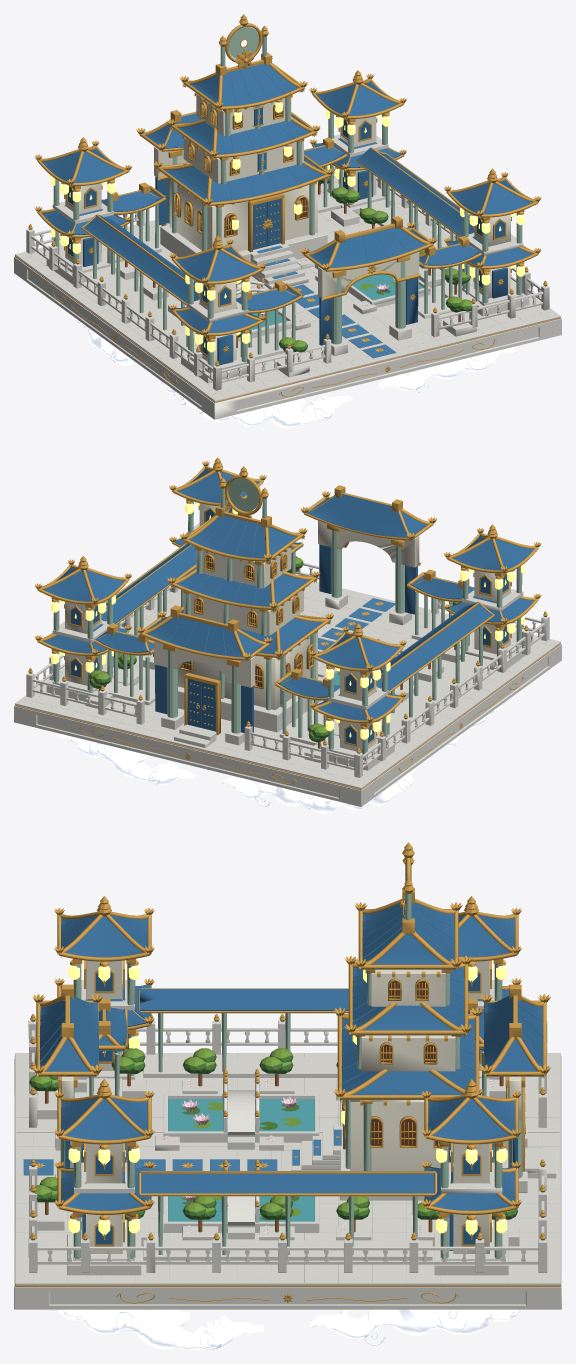
The model's file is city-6-lod0-e28fa2d94aa7.glb.
3 renders of one model, top to bottom at view 1: azimuth 30°, elevation 25°; view 2: azimuth 150°, elevation 25°; view 3: azimuth 270°, elevation 25°, orthographic. The views are drawn at different scales.
Parts seen in each view (by area): view 1: SM_CT6_V4_Batch_0.004, SM_CT6_V4_Batch_34.004, SM_CT6_V4_Batch_152.004, SM_CT6_V4_Batch_29.004, SM_CT6_V4_Batch_31.004, SM_CT6_V4_Batch_171.004, SM_CT6_V4_Batch_32.004, SM_CT6_V4_Batch_146.004, SM_CT6_V4_Batch_141.004, SM_CT6_V4_Batch_1.004, SM_CT6_V4_Batch_142.004, SM_CT6_V4_Batch_128.004 (+2 smaller); view 2: SM_CT6_V4_Batch_0.004, SM_CT6_V4_Batch_34.004, SM_CT6_V4_Batch_152.004, SM_CT6_V4_Batch_29.004, SM_CT6_V4_Batch_31.004, SM_CT6_V4_Batch_171.004, SM_CT6_V4_Batch_32.004, SM_CT6_V4_Batch_146.004, SM_CT6_V4_Batch_1.004, SM_CT6_V4_Batch_3.004, SM_CT6_V4_Batch_6.004, SM_CT6_V4_Batch_141.004; view 3: SM_CT6_V4_Batch_0.004, SM_CT6_V4_Batch_34.004, SM_CT6_V4_Batch_152.004, SM_CT6_V4_Batch_31.004, SM_CT6_V4_Batch_171.004, SM_CT6_V4_Batch_29.004, SM_CT6_V4_Batch_128.004, SM_CT6_V4_Batch_141.004, SM_CT6_V4_Batch_146.004, SM_CT6_V4_Batch_32.004, SM_CT6_V4_Batch_142.004, SM_CT6_V4_Batch_3.004 (+2 smaller).
Part boxes in pixels (x1,y1,x2,y2): SM_CT6_V4_Batch_0.004: (14,134,561,419); SM_CT6_V4_Batch_34.004: (42,63,532,365); SM_CT6_V4_Batch_152.004: (28,14,547,397); SM_CT6_V4_Batch_29.004: (53,26,522,370); SM_CT6_V4_Batch_31.004: (65,95,510,365); SM_CT6_V4_Batch_171.004: (72,316,518,428); SM_CT6_V4_Batch_32.004: (51,102,524,352); SM_CT6_V4_Batch_146.004: (183,64,409,358); SM_CT6_V4_Batch_141.004: (237,176,471,352); SM_CT6_V4_Batch_1.004: (15,256,560,402); SM_CT6_V4_Batch_142.004: (257,187,472,347); SM_CT6_V4_Batch_128.004: (236,274,423,329); SM_CT6_V4_Batch_0.004: (14,523,561,806); SM_CT6_V4_Batch_34.004: (43,468,534,744); SM_CT6_V4_Batch_152.004: (28,457,547,784); SM_CT6_V4_Batch_29.004: (53,478,522,757); SM_CT6_V4_Batch_31.004: (65,503,510,752); SM_CT6_V4_Batch_171.004: (58,701,505,813); SM_CT6_V4_Batch_32.004: (51,502,524,739); SM_CT6_V4_Batch_146.004: (163,516,395,660); SM_CT6_V4_Batch_1.004: (15,643,560,790); SM_CT6_V4_Batch_3.004: (24,586,552,784); SM_CT6_V4_Batch_6.004: (182,554,311,686); SM_CT6_V4_Batch_141.004: (89,561,455,741); SM_CT6_V4_Batch_0.004: (14,980,561,1309); SM_CT6_V4_Batch_34.004: (39,902,543,1250); SM_CT6_V4_Batch_152.004: (30,842,550,1303); SM_CT6_V4_Batch_31.004: (61,960,521,1253); SM_CT6_V4_Batch_171.004: (45,1309,522,1349); SM_CT6_V4_Batch_29.004: (60,865,522,1258); SM_CT6_V4_Batch_128.004: (168,1099,314,1221); SM_CT6_V4_Batch_141.004: (29,1052,517,1220); SM_CT6_V4_Batch_146.004: (23,905,543,1175); SM_CT6_V4_Batch_32.004: (68,965,507,1235); SM_CT6_V4_Batch_142.004: (31,1048,514,1216); SM_CT6_V4_Batch_3.004: (17,1053,558,1282).
Size of the model in its own units: 10 by 8.35 by 10.
19 materials, 4 textured.
